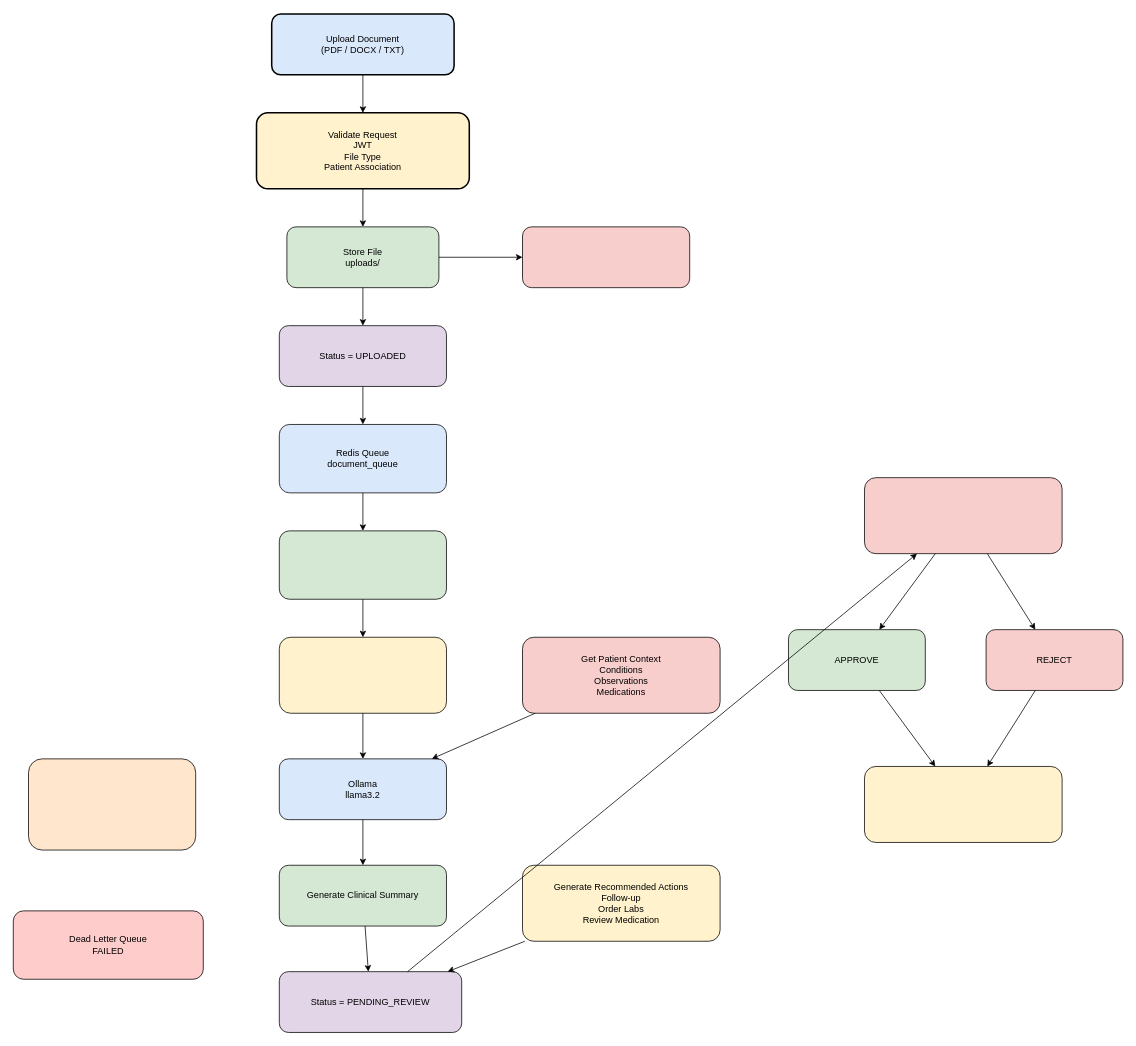
Image size: 1136x1046. Some labels were removed from this diagram. Each missing label, with the centre of its shape:
"Audit Event DOCUMENT_UPLOADED" belongs at [606,257].
"Audit Logs APPROVED / REJECTED" belongs at [963,804].
"Extract Text PDF Parser DOCX Parser" belongs at [362,674].
"Retry Queue Retry #1 Retry #2 Retry #3" belongs at [112,804].
"Review Queue Human Approval Required" belongs at [963,515].
"Worker Service process_document()" belongs at [362,564].
